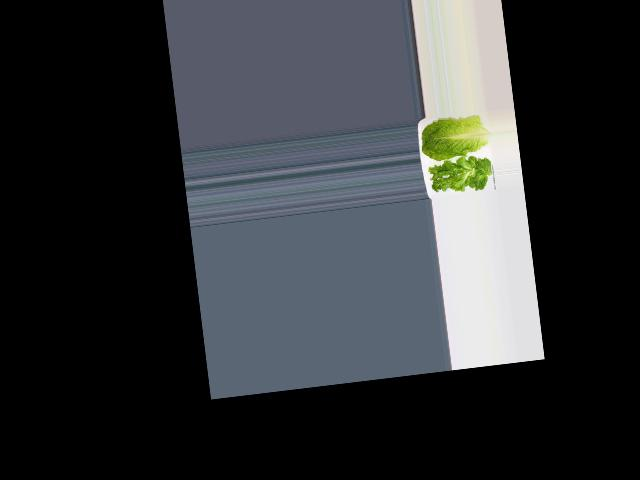lettuce: (427, 155, 492, 199)
